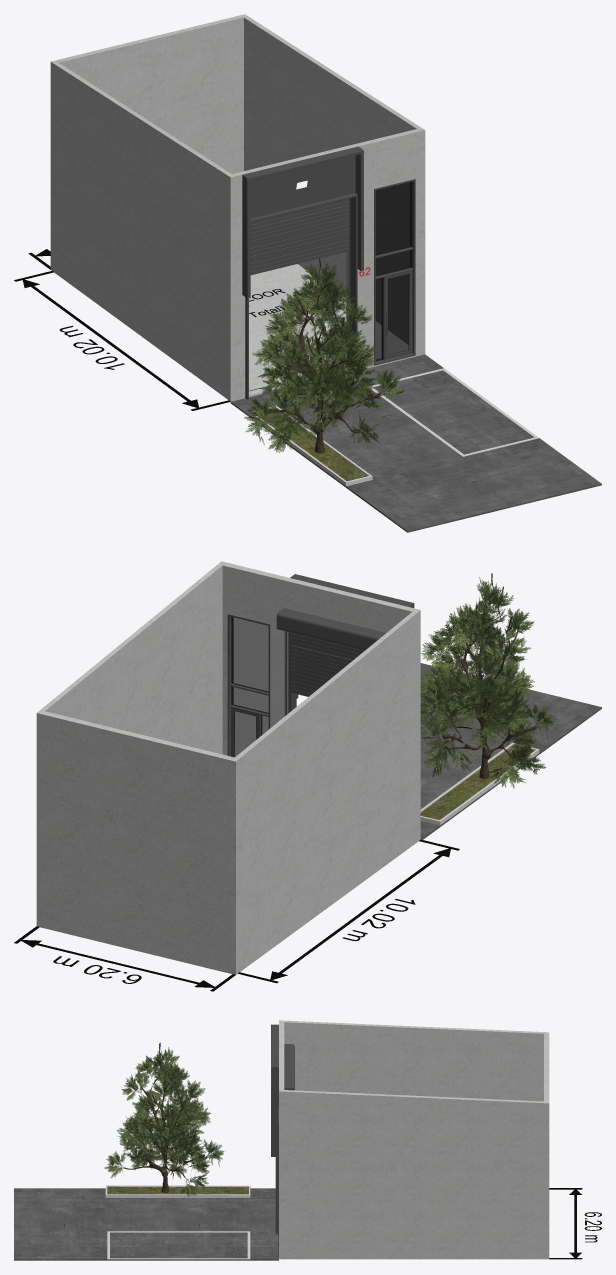
Rendered from Without_Mezzanine.glb.
3 renders of one model, top to bottom at view 1: azimuth 30°, elevation 25°; view 2: azimuth 150°, elevation 25°; view 3: azimuth 270°, elevation 25°, orthographic. The views are drawn at different scales.
Parts seen in each view (by area): view 1: Object1746170105, Box2131647076, Box2131646542, Object1746168793, Object1834019083, Object1834019082, DIM_Line_001; view 2: Object1746170105, Object1746168793, Box2131646542, Box2131647076, Object1834019083, DIM_Line_001, DIM_Line_002; view 3: Object1746170105, Box2131647076, Object1746168793, Box2131646542, Object1834019083, Object1834019082, DIM_Line_002.
Boxes of the visible parts, bbox=[...] form: Object1746170105: bbox=[50, 14, 425, 401]; Box2131647076: bbox=[230, 354, 601, 532]; Box2131646542: bbox=[242, 146, 415, 399]; Object1746168793: bbox=[244, 258, 404, 453]; Object1834019083: bbox=[249, 405, 372, 486]; Object1834019082: bbox=[368, 368, 539, 456]; DIM_Line_001: bbox=[14, 271, 230, 410]; Object1746170105: bbox=[36, 561, 420, 974]; Object1746168793: bbox=[420, 573, 557, 788]; Box2131646542: bbox=[227, 574, 414, 757]; Box2131647076: bbox=[420, 663, 601, 839]; Object1834019083: bbox=[420, 742, 539, 825]; DIM_Line_001: bbox=[238, 839, 459, 983]; DIM_Line_002: bbox=[14, 926, 235, 991]; Object1746170105: bbox=[279, 1020, 549, 1259]; Box2131647076: bbox=[14, 1188, 278, 1260]; Object1746168793: bbox=[104, 1042, 224, 1196]; Box2131646542: bbox=[271, 1024, 294, 1254]; Object1834019083: bbox=[105, 1185, 250, 1197]; Object1834019082: bbox=[107, 1231, 250, 1259]; DIM_Line_002: bbox=[549, 1188, 582, 1259].
Size of the model in its own units: 8.33 by 7.08 by 22.19.
Materials: 18 (8 with a texture image).
